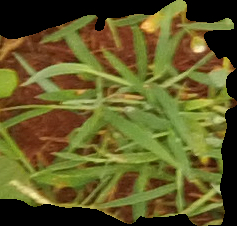grass: (1, 1, 235, 225)
